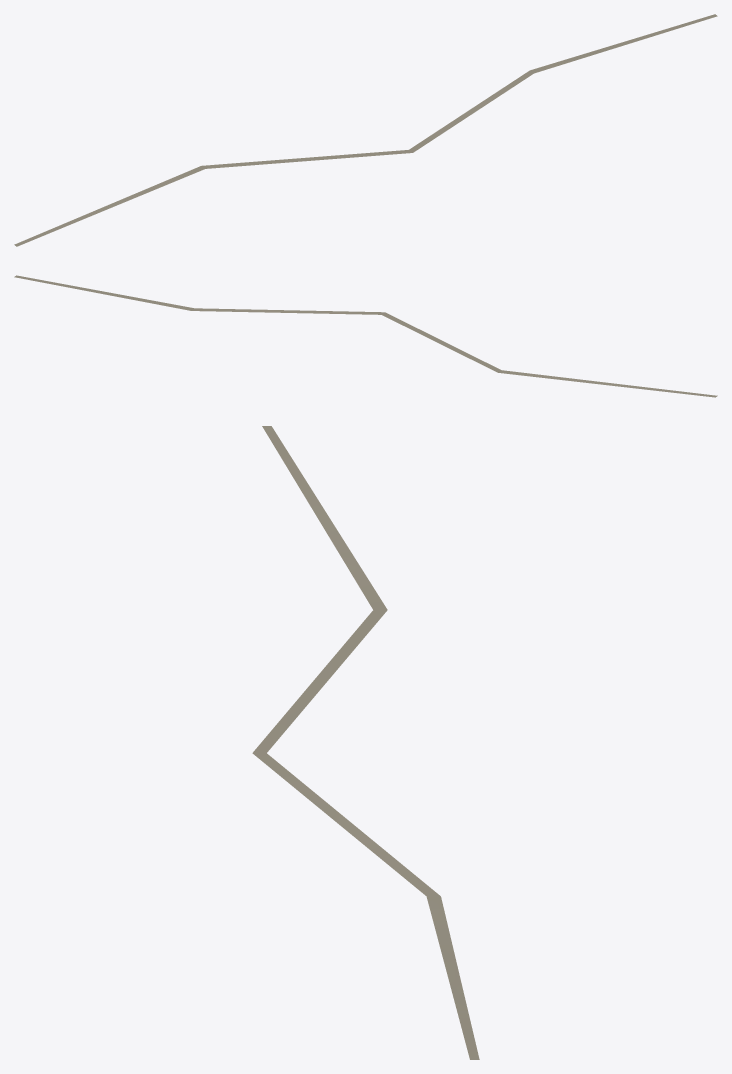
File: Floor_Crack.glb
The picture shows the model from 3 angles, top to bottom: view 1: azimuth 30°, elevation 25°; view 2: azimuth 150°, elevation 25°; view 3: azimuth 270°, elevation 25°; orthographic projection. The views are drawn at different scales.
Parts seen in each view (by area): view 1: Floor_Crack; view 2: Floor_Crack; view 3: Floor_Crack.
Boxes of the visible parts, x1=… form: Floor_Crack: x1=14, y1=14, x2=717, y2=246; Floor_Crack: x1=14, y1=275, x2=717, y2=397; Floor_Crack: x1=252, y1=426, x2=479, y2=1059.
Size of the model in its own units: 3.1 by 0 by 0.47.
1 material, 1 textured.
